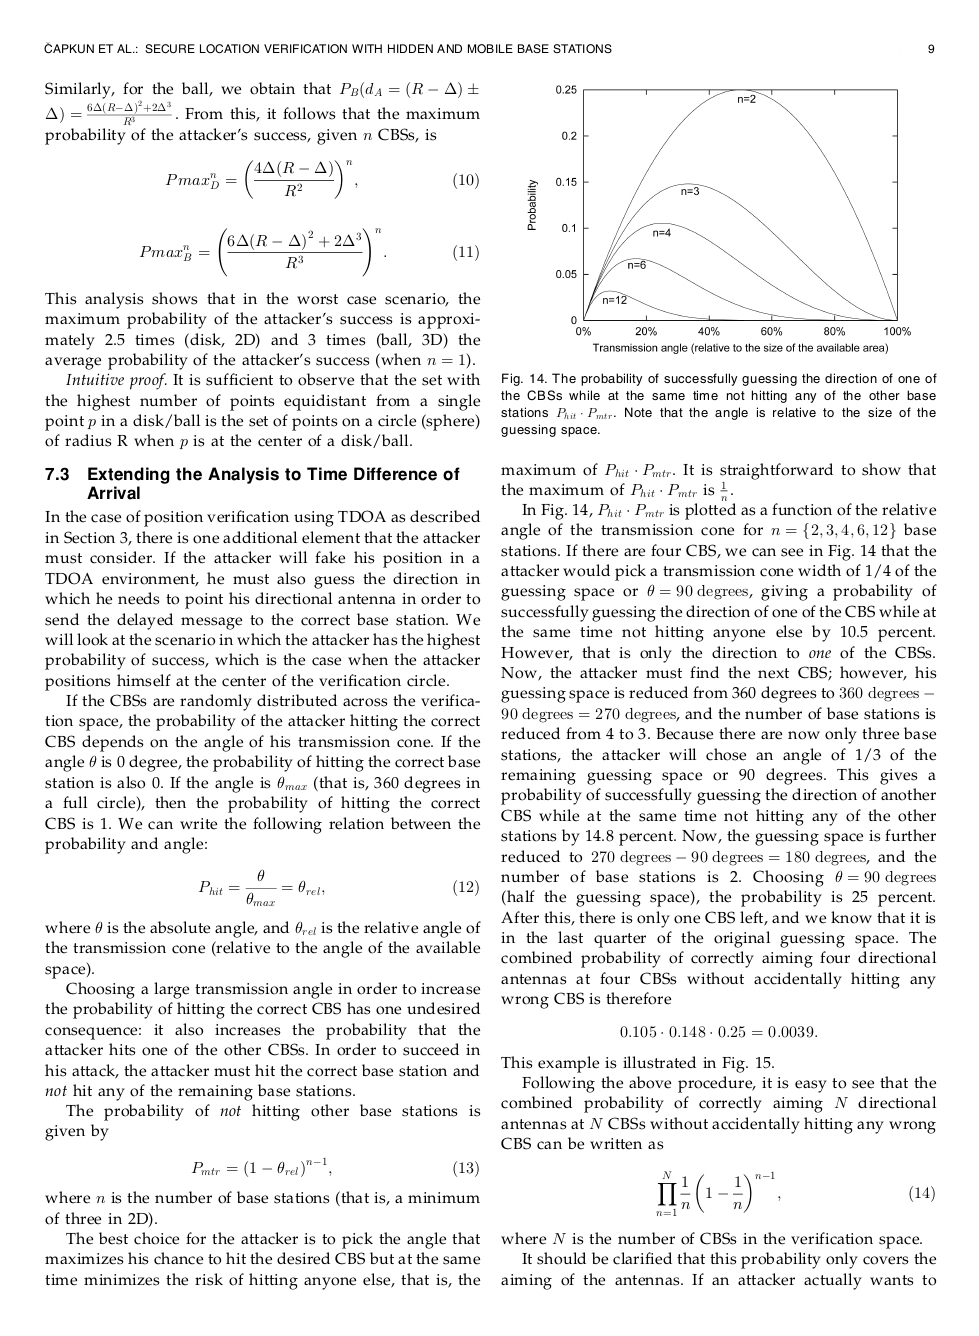figure: (527, 85, 910, 353)
formula: (139, 227, 478, 277), (656, 1170, 934, 1216), (165, 159, 478, 199), (198, 868, 478, 906), (191, 1156, 478, 1177)
